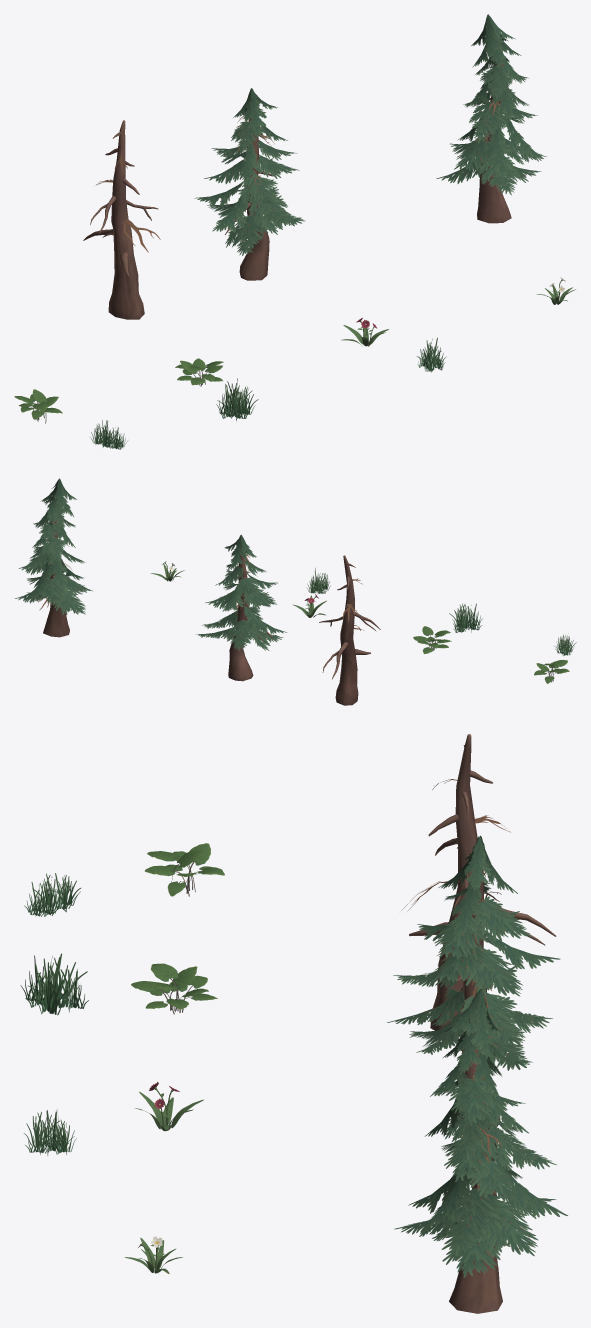
File: dressing-kit.glb
3 views of the same model, one above another, from view 1: azimuth 30°, elevation 25°; view 2: azimuth 150°, elevation 25°; view 3: azimuth 270°, elevation 25° (orthographic). The views are drawn at different scales.
Parts seen in each view (by area): view 1: Pine_Leaves_01, Pine_Leaves_04, Pine_Trunk_No_Leaves_01, Pine_Trunk_04, Pine_Trunk_01, Grass_Clump_01, Leafy_Plant_01, Leafy_Plant_02, Grass_Clump_03, Grass_Clump_02; view 2: Pine_Leaves_01, Pine_Leaves_04, Pine_Trunk_No_Leaves_01, Pine_Trunk_04, Pine_Trunk_01, Grass_Clump_01, Leafy_Plant_01, Leafy_Plant_02, Grass_Clump_02; view 3: Pine_Leaves_01, Pine_Leaves_04, Pine_Trunk_No_Leaves_01, Pine_Trunk_01, Grass_Clump_01, Leafy_Plant_01, Leafy_Plant_02, Grass_Clump_03, Grass_Clump_02, Red_Flower_01, White_Flower_01.
Boxes of the visible parts, x1,y1,x2,y2 form: Pine_Leaves_01: (436, 14, 546, 195); Pine_Leaves_04: (194, 88, 304, 255); Pine_Trunk_No_Leaves_01: (83, 120, 160, 319); Pine_Trunk_04: (223, 107, 274, 280); Pine_Trunk_01: (477, 50, 511, 223); Grass_Clump_01: (216, 378, 258, 421); Leafy_Plant_01: (175, 358, 223, 386); Leafy_Plant_02: (14, 389, 62, 423); Grass_Clump_03: (90, 420, 128, 449); Grass_Clump_02: (416, 337, 446, 372); Pine_Leaves_01: (15, 478, 93, 614); Pine_Leaves_04: (196, 534, 286, 650); Pine_Trunk_No_Leaves_01: (319, 555, 380, 705); Pine_Trunk_04: (228, 537, 272, 681); Pine_Trunk_01: (43, 480, 69, 637); Grass_Clump_01: (449, 603, 482, 632); Leafy_Plant_01: (413, 626, 451, 653); Leafy_Plant_02: (534, 660, 569, 683); Grass_Clump_02: (306, 568, 330, 593); Pine_Leaves_01: (394, 989, 567, 1277); Pine_Leaves_04: (387, 835, 560, 1070); Pine_Trunk_No_Leaves_01: (402, 734, 556, 1035); Pine_Trunk_01: (449, 1015, 502, 1313); Grass_Clump_01: (20, 953, 88, 1015); Leafy_Plant_01: (131, 963, 217, 1014); Leafy_Plant_02: (145, 843, 224, 896); Grass_Clump_03: (24, 873, 80, 916); Grass_Clump_02: (24, 1109, 76, 1155); Red_Flower_01: (135, 1082, 203, 1131); White_Flower_01: (124, 1236, 182, 1273).
Size of the model in its own units: 12.82 by 4.04 by 6.45.
3 materials, 3 textured.
